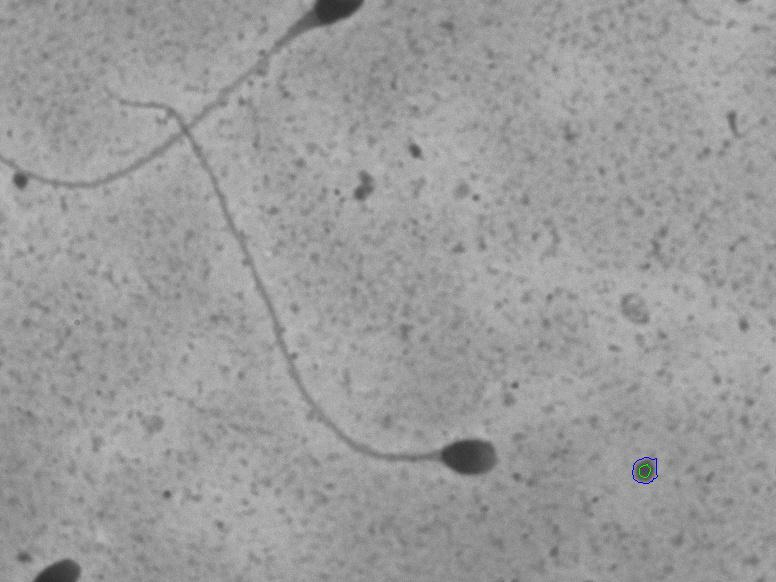Normal: (93, 68, 513, 490)
